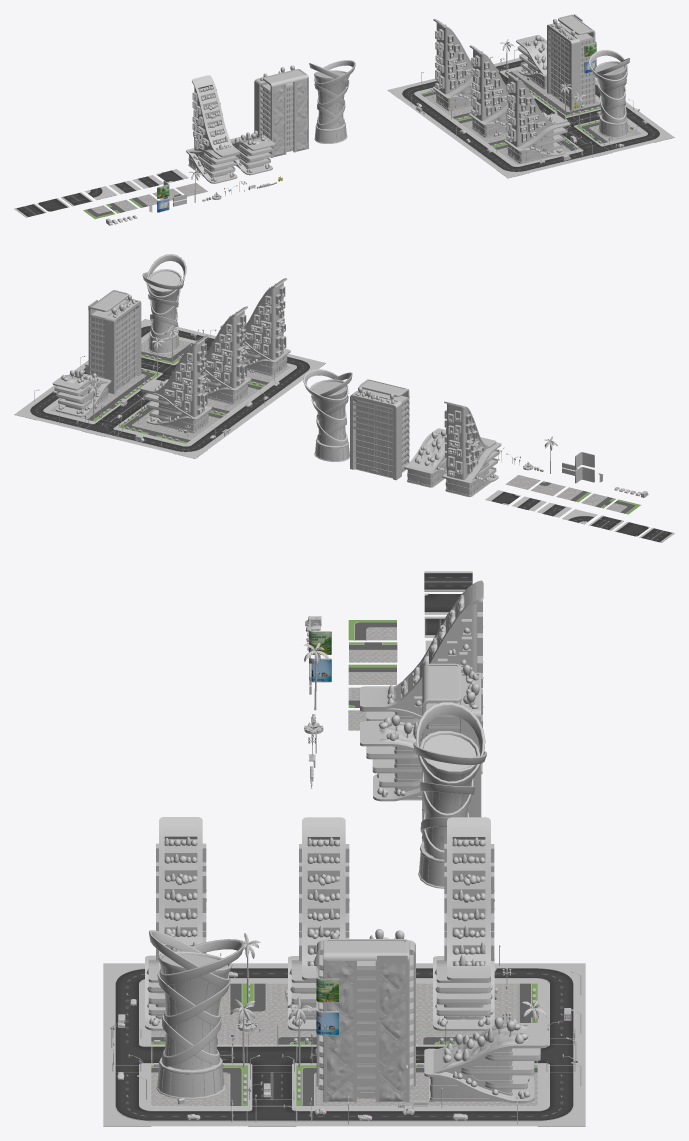
File: cartoon_city_free.fbx
3 views of the same model, one above another, from view 1: azimuth 30°, elevation 25°; view 2: azimuth 150°, elevation 25°; view 3: azimuth 270°, elevation 25° (orthographic). The views are drawn at different scales.
Visible parts, largest first — view 1: Eco_Building_Grid, Eco_Building_Grid.005, Eco_Building_Slope, Eco_Building_Slope.004, Eco_Building_Slope.005, Eco_Building_Slope.001, Regular_Building_TwistedTower_Large, Regular_Building_TwistedTower_Large.004, Eco_Building_Terrace, Eco_Building_Terrace.008; view 2: Eco_Building_Grid, Eco_Building_Grid.005, Eco_Building_Slope.005, Eco_Building_Slope, Eco_Building_Slope.001, Eco_Building_Slope.004, Regular_Building_TwistedTower_Large, Regular_Building_TwistedTower_Large.004, Eco_Building_Terrace.008, Eco_Building_Terrace, Eco_Building_Grid_NightLight; view 3: Eco_Building_Grid.005, Eco_Building_Slope.005, Regular_Building_TwistedTower_Large.004, Eco_Building_Slope.001, Eco_Building_Terrace.008, Regular_Building_TwistedTower_Large, Eco_Building_Slope.004, Eco_Building_Slope, Eco_Building_Terrace, Eco_Building_Grid, road_003.008, road_019.005 (+33 smaller).
Part boxes in pixels (x1,y1,x2,y2): Eco_Building_Grid: (254, 65, 308, 157); Eco_Building_Grid.005: (547, 14, 595, 110); Eco_Building_Slope: (186, 75, 239, 183); Eco_Building_Slope.004: (504, 71, 570, 163); Eco_Building_Slope.005: (433, 19, 498, 111); Eco_Building_Slope.001: (469, 45, 534, 137); Regular_Building_TwistedTower_Large: (309, 60, 355, 143); Regular_Building_TwistedTower_Large.004: (588, 50, 629, 137); Eco_Building_Terrace: (230, 130, 275, 175); Eco_Building_Terrace.008: (516, 35, 546, 89); Eco_Building_Grid: (350, 379, 409, 480); Eco_Building_Grid.005: (88, 290, 141, 393); Eco_Building_Slope.005: (140, 335, 211, 433); Eco_Building_Slope: (442, 401, 501, 497); Eco_Building_Slope.001: (179, 306, 251, 404); Eco_Building_Slope.004: (219, 278, 290, 376); Regular_Building_TwistedTower_Large: (303, 369, 352, 461); Regular_Building_TwistedTower_Large.004: (142, 254, 186, 354); Eco_Building_Terrace.008: (52, 370, 111, 416); Eco_Building_Terrace: (404, 428, 446, 487); Eco_Building_Grid_NightLight: (356, 402, 407, 476); Eco_Building_Grid.005: (316, 929, 415, 1102); Eco_Building_Slope.005: (433, 817, 494, 1030); Regular_Building_TwistedTower_Large.004: (149, 930, 244, 1099); Eco_Building_Slope.001: (288, 817, 349, 1030); Eco_Building_Terrace.008: (424, 1017, 547, 1103); Regular_Building_TwistedTower_Large: (413, 702, 486, 888); Eco_Building_Slope.004: (145, 817, 206, 1030); Eco_Building_Slope: (360, 580, 483, 727); Eco_Building_Terrace: (360, 715, 482, 801); Eco_Building_Grid: (422, 663, 481, 841); road_003.008: (248, 1044, 296, 1065); road_019.005: (103, 1044, 151, 1065).
Size of the model in its own units: 40823 by 5749 by 15000.
